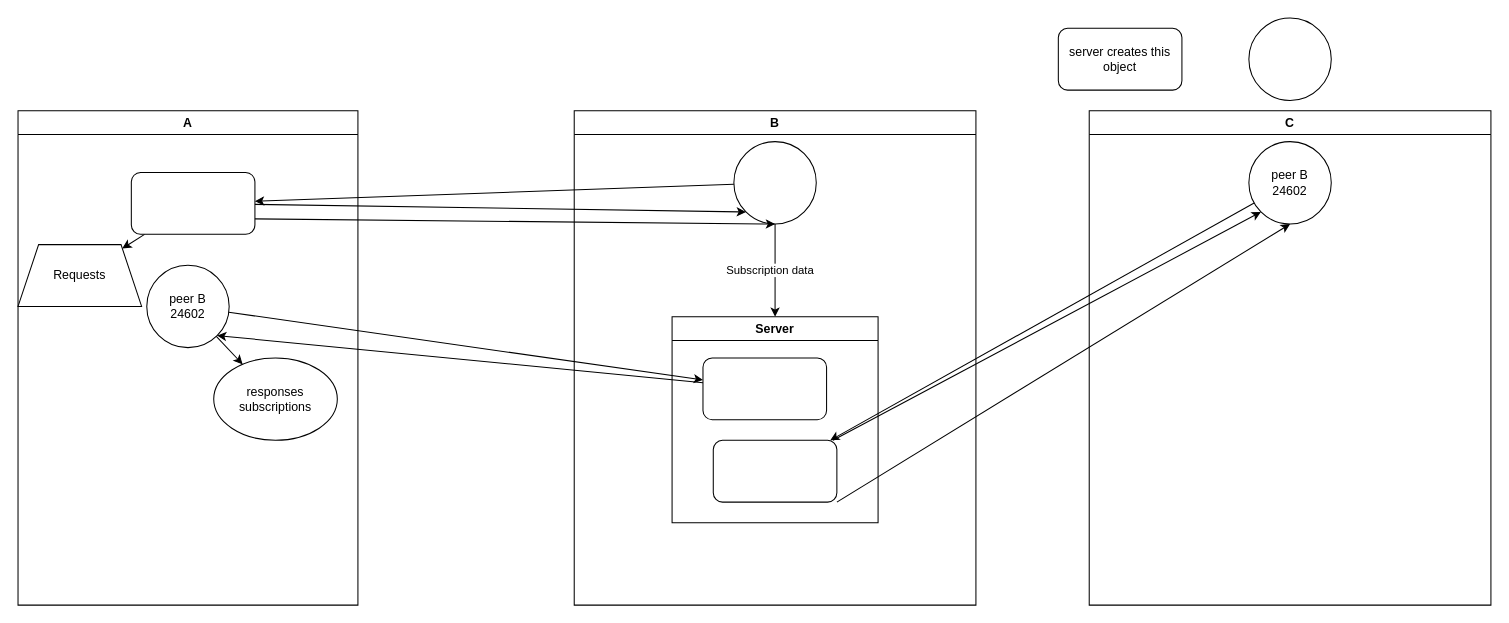
Some shapes in this 1509 by 623 pixel diagram are drawn without their labels. The shapes that lost their labels are listed below. From the top down, each one's centre as x and y in pixels, then its label:
(x=1289, y=58): client creates this object
(x=192, y=202): Peer B 358148
(x=774, y=182): peer A 24602
(x=764, y=388): Peer A 54385
(x=774, y=470): Peer C 54386
